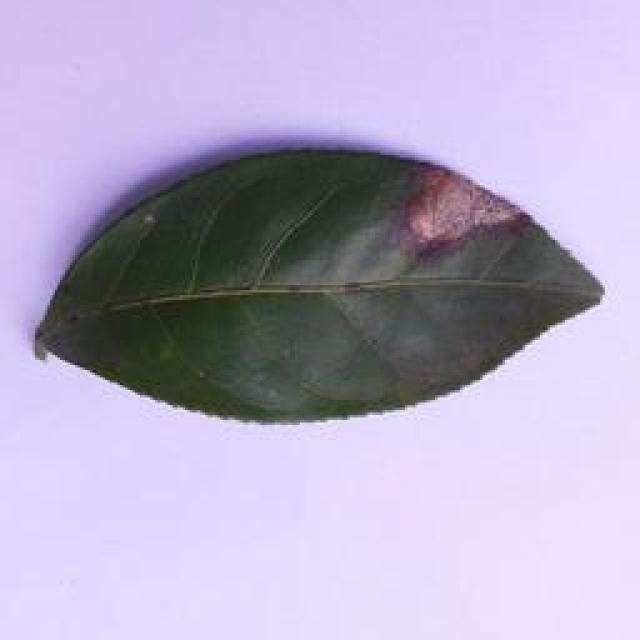Gray Blight: (27, 144, 612, 432)
